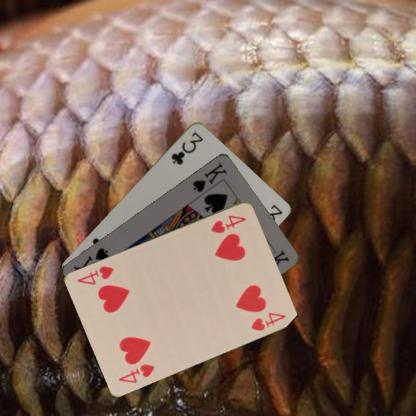3c: (168, 129, 205, 166)
4h: (116, 361, 156, 384), (208, 212, 248, 234)
Ks: (191, 160, 228, 194)
